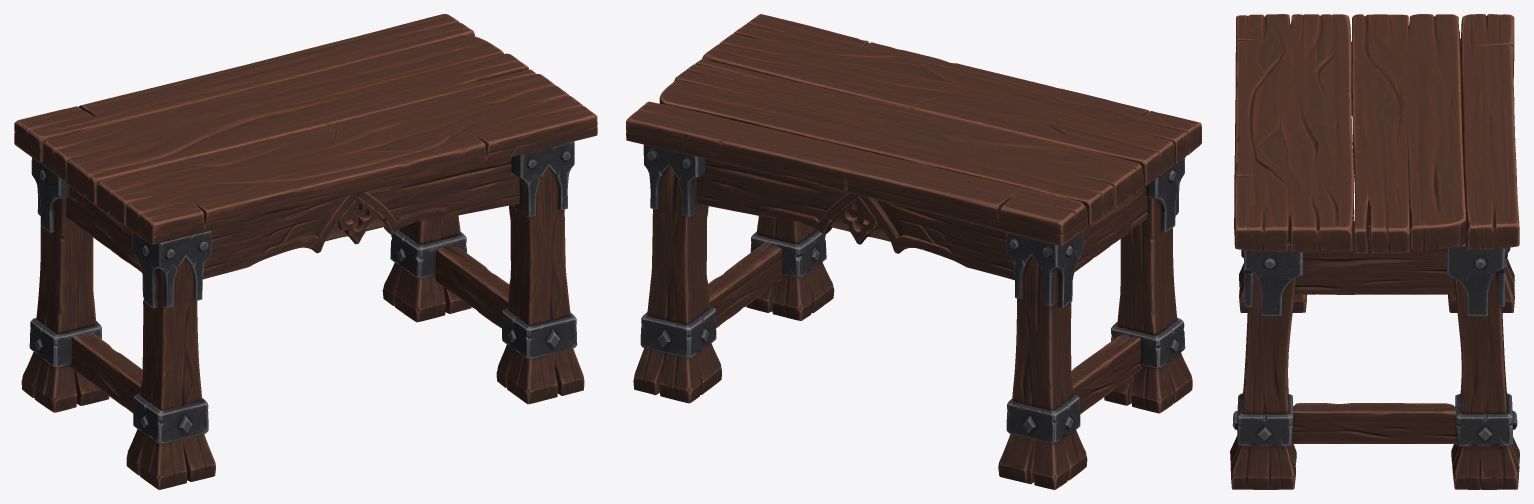
File: PR_Desk_Up.fbx
3 renders of one model, left to right at view 1: azimuth 30°, elevation 25°; view 2: azimuth 150°, elevation 25°; view 3: azimuth 270°, elevation 25°, orthographic.
Parts seen in each view (by area): view 1: Mesh_0; view 2: Mesh_0; view 3: Mesh_0.
Boxes of the visible parts, x1=… form: Mesh_0: x1=14, y1=14, x2=597, y2=489; Mesh_0: x1=626, y1=14, x2=1201, y2=489; Mesh_0: x1=1230, y1=14, x2=1519, y2=489.
Bounding box in the file's own units: 190 × 111 × 108.
1 material, 1 textured.
